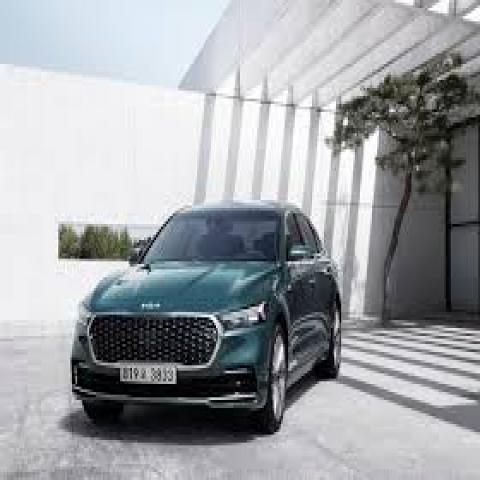LP: (116, 354, 179, 388)
